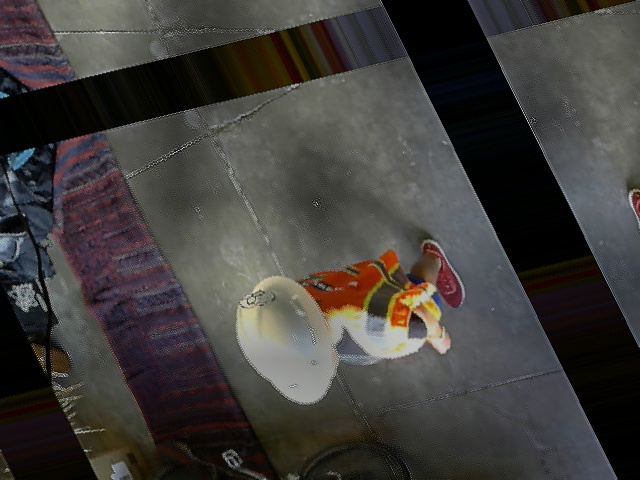eight: (232, 286, 278, 312)
